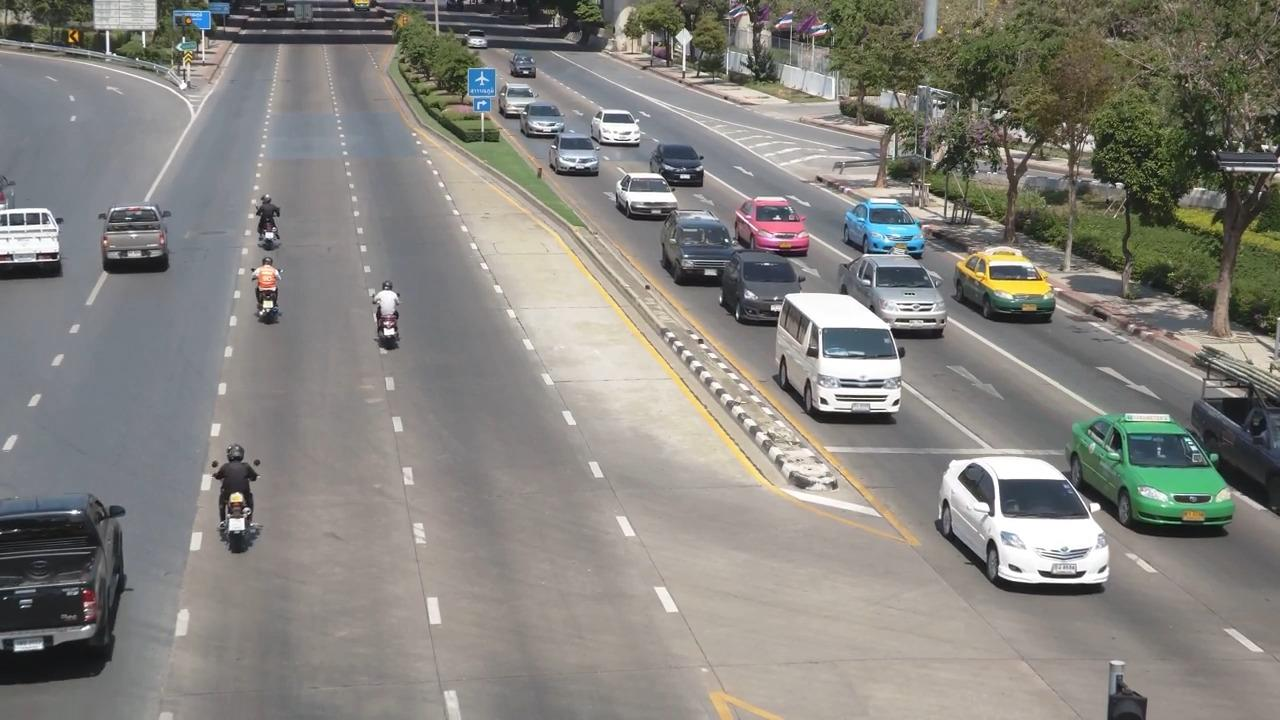CAR: (908, 439, 1129, 601), (0, 481, 140, 690), (1066, 402, 1245, 534), (768, 284, 915, 431), (87, 194, 196, 291), (956, 245, 1053, 329), (855, 253, 952, 333), (0, 194, 75, 294), (658, 211, 746, 293), (834, 192, 928, 261), (733, 194, 816, 262), (616, 161, 677, 220), (583, 95, 647, 151), (655, 139, 723, 190), (552, 131, 606, 180), (493, 77, 540, 125), (516, 100, 563, 136)
MOTOR: (195, 441, 286, 570), (239, 256, 295, 335), (367, 278, 414, 355), (249, 186, 297, 258)
